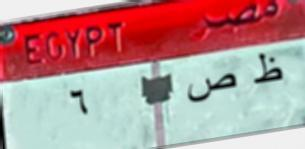6: (65, 86, 91, 123)
Thaa: (251, 51, 285, 89)
saad: (185, 70, 239, 109)
